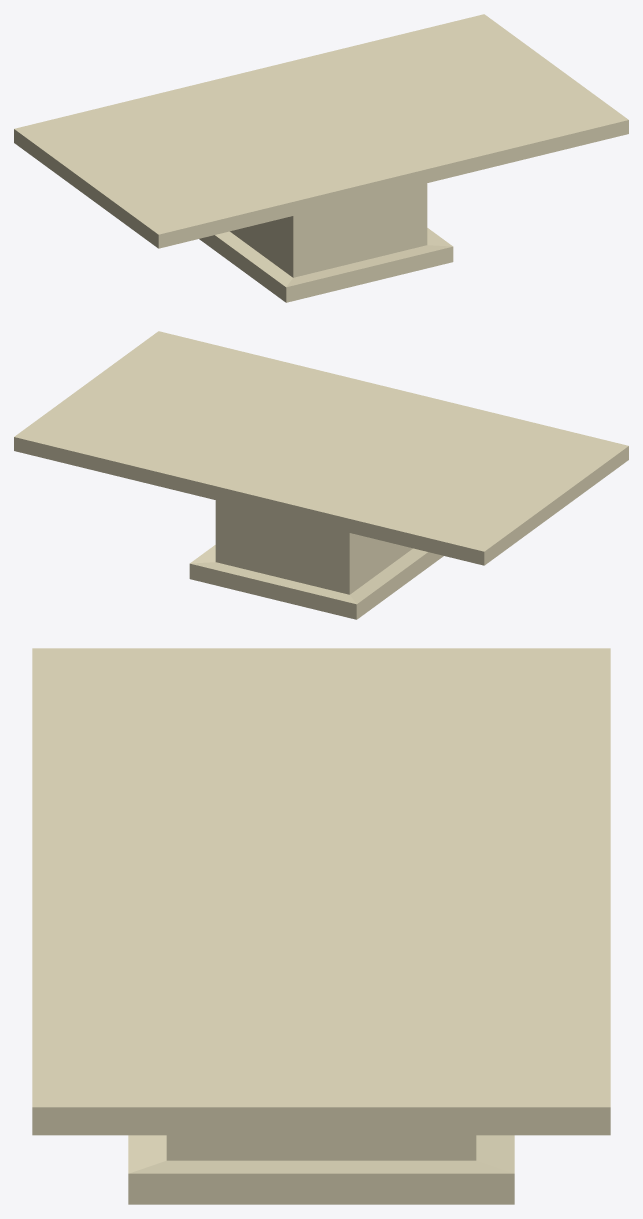
File: table.fbx
3 views of the same model, one above another, from view 1: azimuth 30°, elevation 25°; view 2: azimuth 150°, elevation 25°; view 3: azimuth 270°, elevation 25° (orthographic). The views are drawn at different scales.
Parts seen in each view (by area): view 1: table; view 2: table; view 3: table.
Part boxes in pixels (x1=…): table: x1=14, y1=14, x2=628, y2=302; table: x1=14, y1=331, x2=628, y2=619; table: x1=32, y1=648, x2=610, y2=1204.
Size of the model in its own units: 376 by 93.64 by 200.
